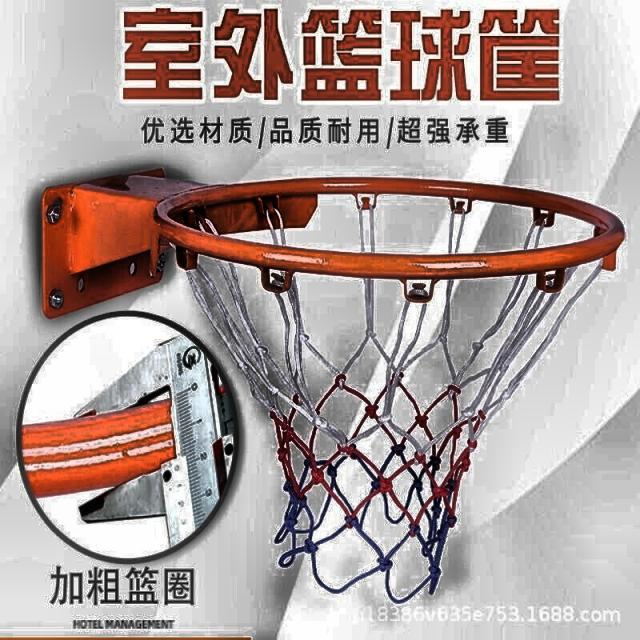rim: (156, 181, 624, 599)
